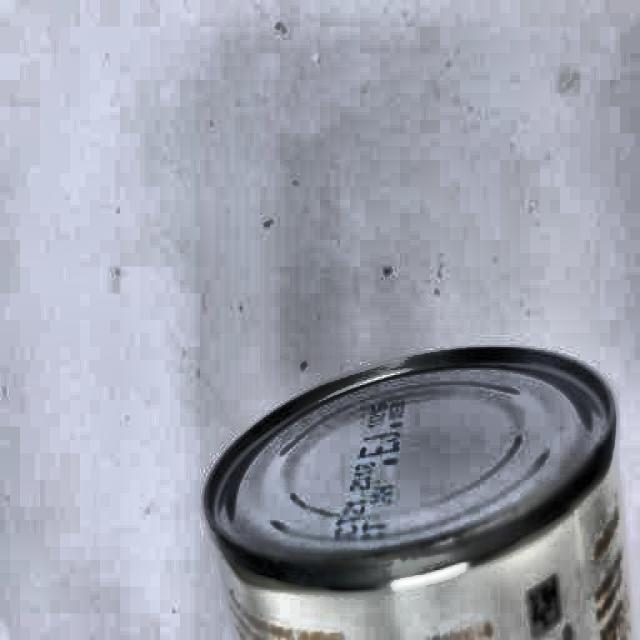metal: (195, 341, 639, 640)
